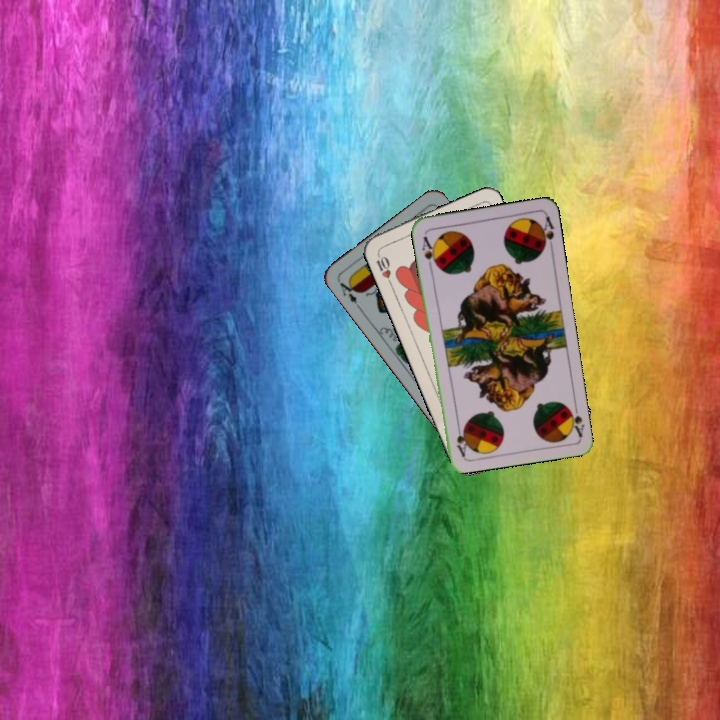EA: (334, 275, 363, 312)
H10: (372, 248, 394, 287)
SA: (563, 399, 586, 439), (418, 232, 440, 271)
